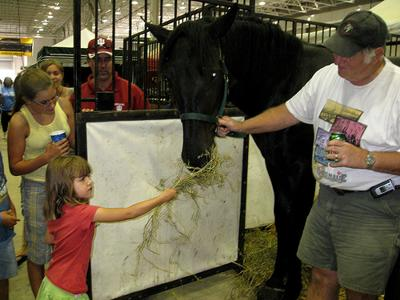person: (33, 154, 182, 300)
